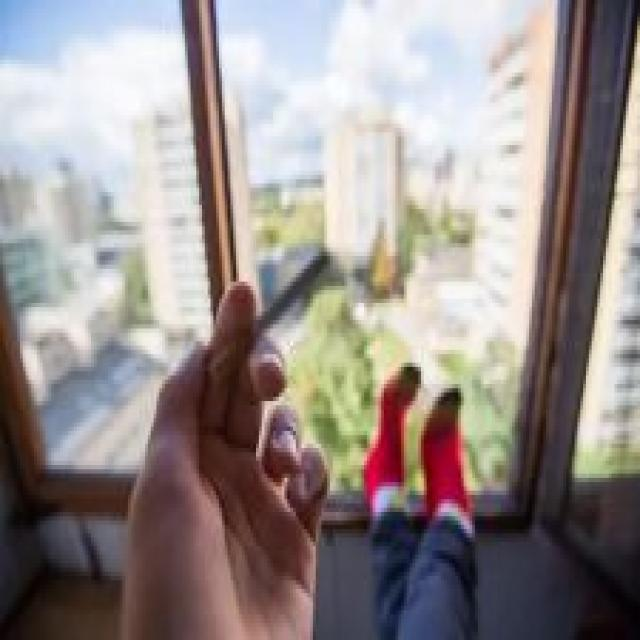smoke: (202, 243, 336, 384)
